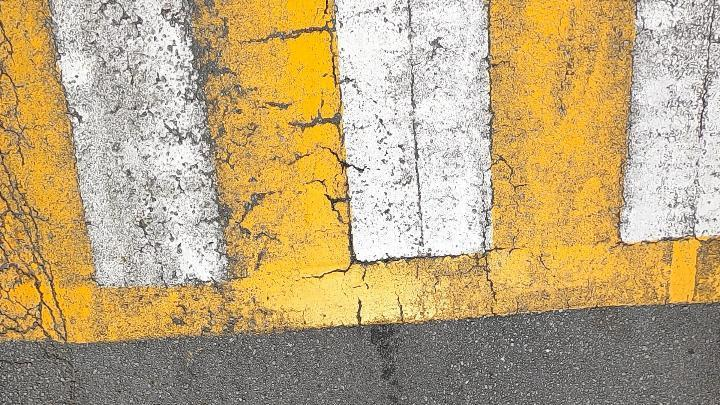Lane: (0, 0, 719, 341), (2, 0, 719, 340)
